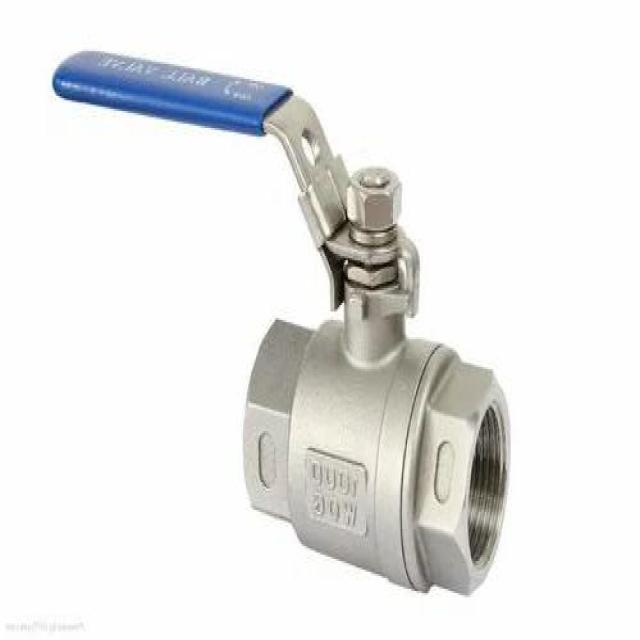opened_valve: (51, 44, 511, 596)
